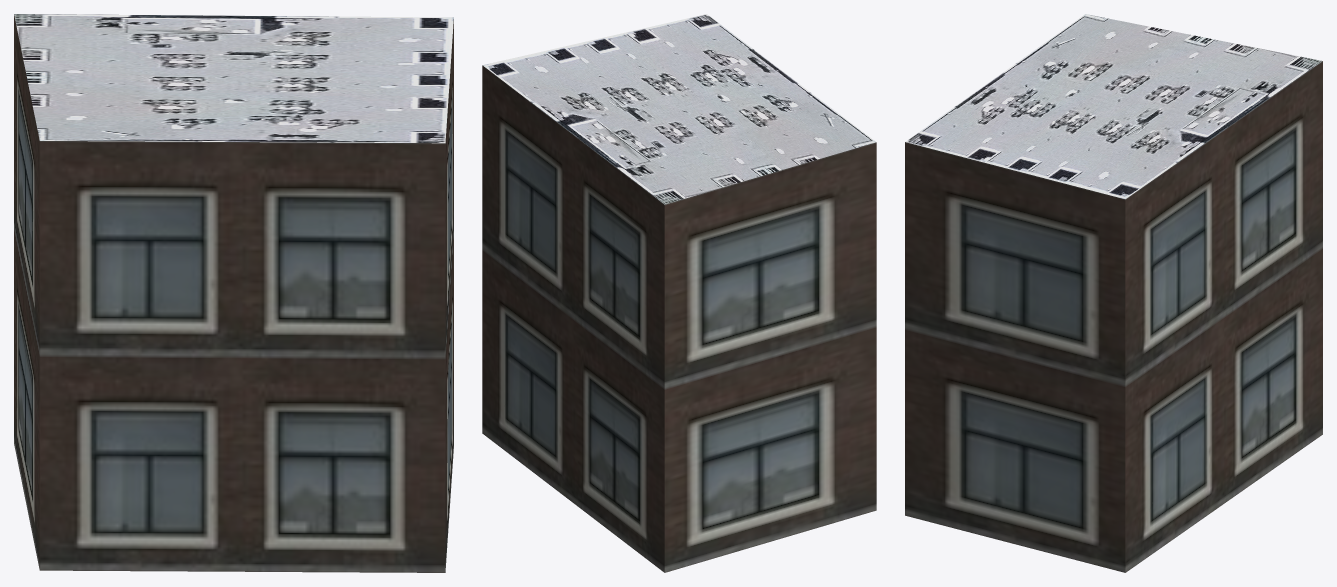
File: ResTex__3641.fbx
The picture shows the model from 3 angles, left to right: view 1: azimuth 30°, elevation 25°; view 2: azimuth 150°, elevation 25°; view 3: azimuth 270°, elevation 25°; orthographic projection. The views are drawn at different scales.
Visible parts, largest first — view 1: CityEngineMaterial_16_m, CityEngineMaterial_15_m; view 2: CityEngineMaterial_16_m, CityEngineMaterial_15_m; view 3: CityEngineMaterial_16_m, CityEngineMaterial_15_m.
Boxes of the visible parts, box(x1,y1,x2,y2) form: CityEngineMaterial_16_m: box(14, 14, 453, 572); CityEngineMaterial_15_m: box(14, 14, 453, 143); CityEngineMaterial_16_m: box(482, 65, 876, 572); CityEngineMaterial_15_m: box(482, 14, 875, 204); CityEngineMaterial_16_m: box(905, 61, 1322, 572); CityEngineMaterial_15_m: box(905, 14, 1322, 199).
Size of the model in its own units: 6.39 by 6 by 6.08.
2 materials, 2 textured.
